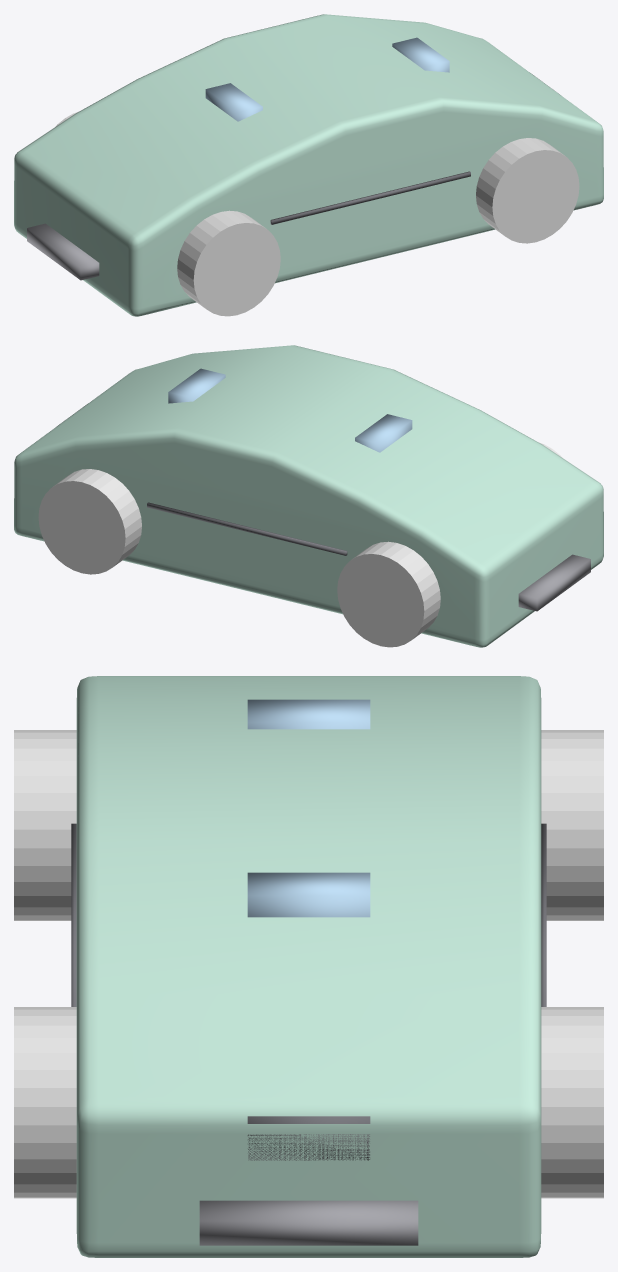
File: car_sedan_mint.glb
The picture shows the model from 3 angles, top to bottom: view 1: azimuth 30°, elevation 25°; view 2: azimuth 150°, elevation 25°; view 3: azimuth 270°, elevation 25°; orthographic projection. The views are drawn at different scales.
Visible parts, largest first — view 1: body, well_rear_r, well_front_r, bumper_rear, window_front, trim_right, window_rear; view 2: body, well_rear_l, well_front_l, bumper_rear, window_front, trim_left, window_rear; view 3: body, well_front_l, well_front_r, well_rear_l, well_rear_r, bumper_front, window_rear, window_front, grill, trim_left, trim_right.
Boxes of the visible parts, x1,y1,x2,y2 form: body: (14, 14, 603, 316); well_rear_r: (177, 210, 280, 316); well_front_r: (476, 138, 579, 243); bumper_rear: (27, 223, 99, 280); window_front: (205, 83, 262, 121); trim_right: (270, 171, 470, 224); window_rear: (392, 37, 449, 72); body: (14, 345, 603, 647); well_rear_l: (337, 541, 440, 647); well_front_l: (38, 469, 141, 574); bumper_rear: (518, 554, 590, 611); window_front: (355, 414, 412, 452); trim_left: (147, 502, 347, 555); window_rear: (168, 368, 225, 403); body: (76, 676, 541, 1257); well_front_l: (541, 1007, 603, 1198); well_front_r: (14, 1007, 76, 1198); well_rear_l: (541, 730, 603, 920); well_rear_r: (14, 730, 76, 920); bumper_front: (199, 1200, 418, 1245); window_rear: (247, 872, 370, 917); window_front: (247, 699, 370, 729); grill: (247, 1116, 370, 1160); trim_left: (541, 823, 546, 1006); trim_right: (71, 823, 76, 1006).
Bounding box in the file's own units: 4.13 × 1.13 × 2.16.
